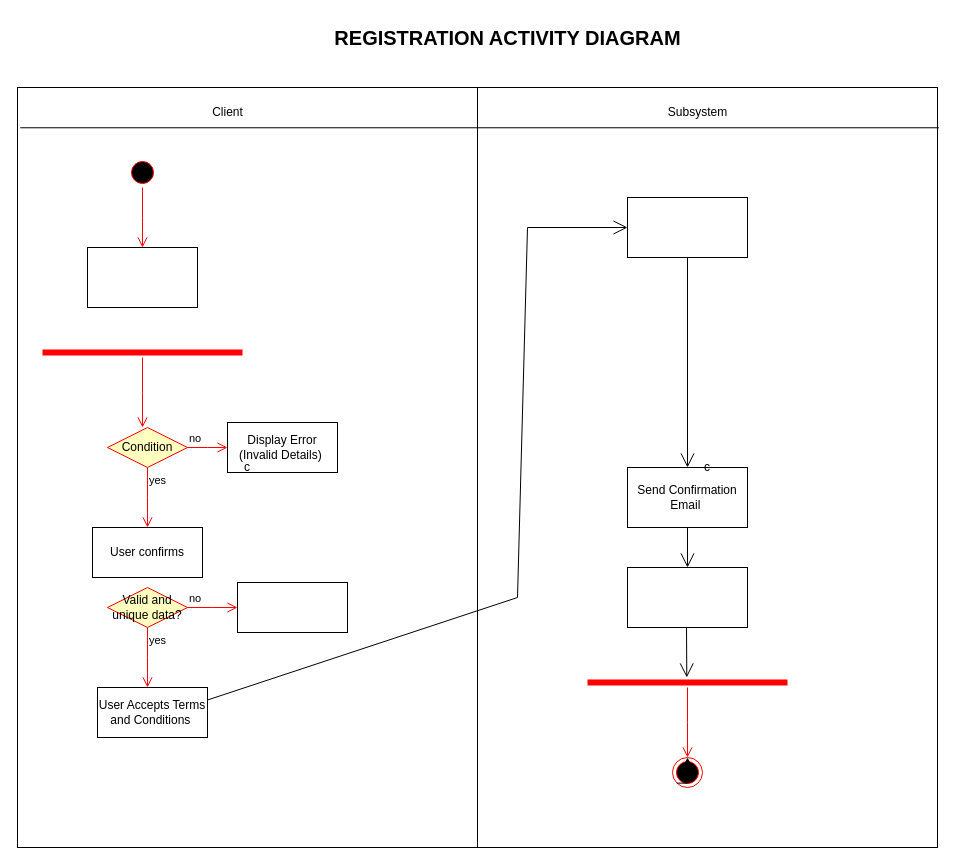
The diagram is 958 pixels wide and 865 high, and some of its shapes have lost their labels. Each missing label, with the centre of its shape:
Display Error: the point at 292,607
Registration Complete: the point at 687,597
Save User Data to Database: the point at 687,227
User Enters Name, Email, Password: the point at 142,277
